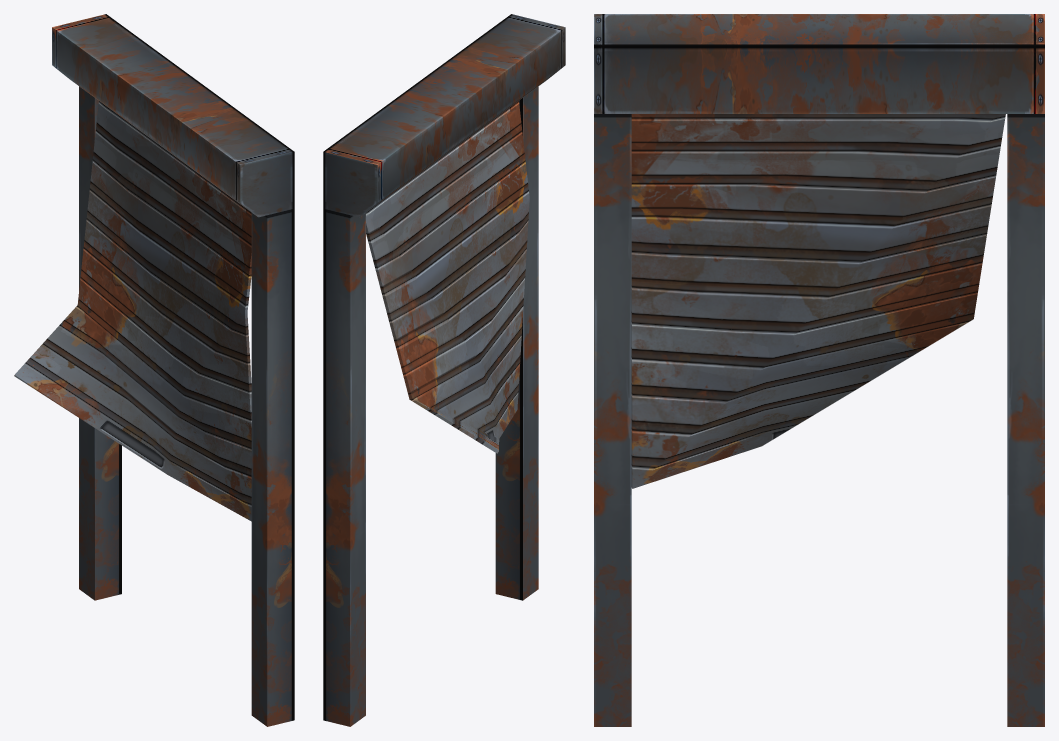
File: rollerShutter03_2m_B.fbx
3 renders of one model, left to right at view 1: azimuth 30°, elevation 25°; view 2: azimuth 150°, elevation 25°; view 3: azimuth 270°, elevation 25°, orthographic. The views are drawn at different scales.
Visible parts, largest first — view 1: rollerShutter03_2m_B; view 2: rollerShutter03_2m_B; view 3: rollerShutter03_2m_B.
Boxes of the visible parts, x1,y1,x2,y2 form: rollerShutter03_2m_B: (14, 14, 294, 726); rollerShutter03_2m_B: (323, 14, 565, 726); rollerShutter03_2m_B: (594, 14, 1044, 726).
Size of the model in its own units: 73.9 by 300 by 180.
